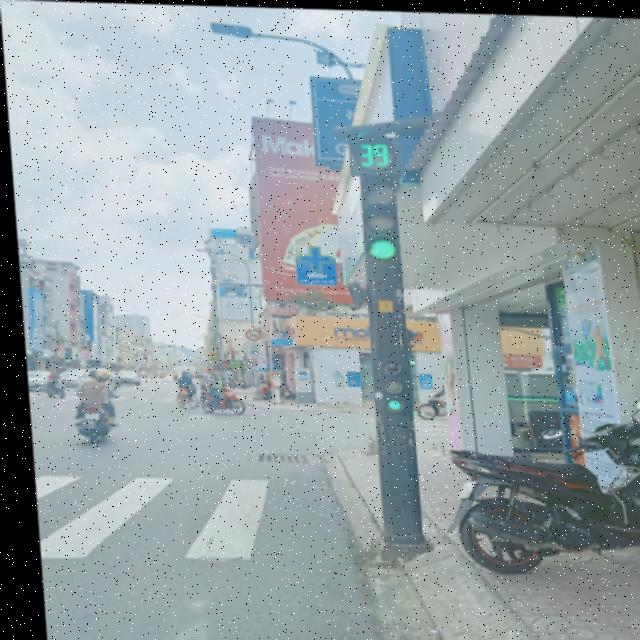Green: (349, 174, 402, 263), (361, 344, 408, 413)
